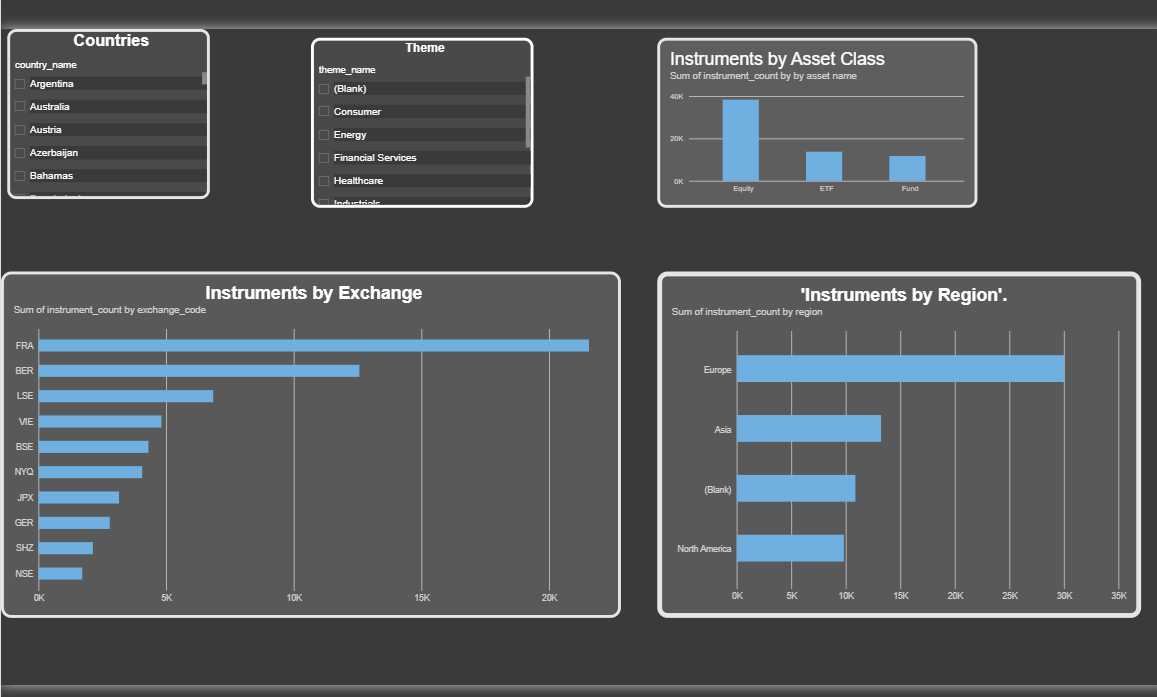

What the dashboard file says about the page in this screenshot:
{"tool":"powerbi","page":{"name":"Geographic Intelligence","canvas":[1920,1080],"ordinal":3},"visuals":[{"type":"slicer","title":"Countries","fields":{"Values":["vw_GeographicIntelligence.country_name"]},"box":[10.3,0,333.4,279.9],"z":0},{"type":"slicer","title":"Theme","fields":{"Values":["vw_GeographicIntelligence.theme_name"]},"box":[510.5,14.4,366.4,279.9],"z":1000},{"type":"clusteredBarChart","title":"Instruments by Exchange","fields":{"Category":["vw_GeographicIntelligence.exchange_code"],"Y":["Sum(vw_GeographicIntelligence.instrument_count)"]},"box":[0,399.3,1020.9,570.2],"z":2000},{"type":"clusteredBarChart","title":"''Instruments by Region''.","fields":{"Category":["vw_GeographicIntelligence.region"],"Y":["Sum(vw_GeographicIntelligence.instrument_count)"]},"box":[1080.6,399.3,796.6,570.2],"z":3000},{"type":"clusteredColumnChart","title":"Instruments by Asset Class","fields":{"Category":["vw_GeographicIntelligence.asset_type_name"],"Y":["Sum(vw_GeographicIntelligence.instrument_count)"]},"box":[1080.6,14.4,526.9,279.9],"z":4000}]}

Visuals, with their boxes in screenshot pixels (x1, y1, x2, y2):
"Countries" slicer: box(0, 21, 203, 194)
"Theme" slicer: box(305, 30, 531, 202)
"Instruments by Exchange" clusteredBarChart: box(0, 267, 620, 618)
"''Instruments by Region''." clusteredBarChart: box(657, 267, 1148, 618)
"Instruments by Asset Class" clusteredColumnChart: box(657, 30, 981, 202)
